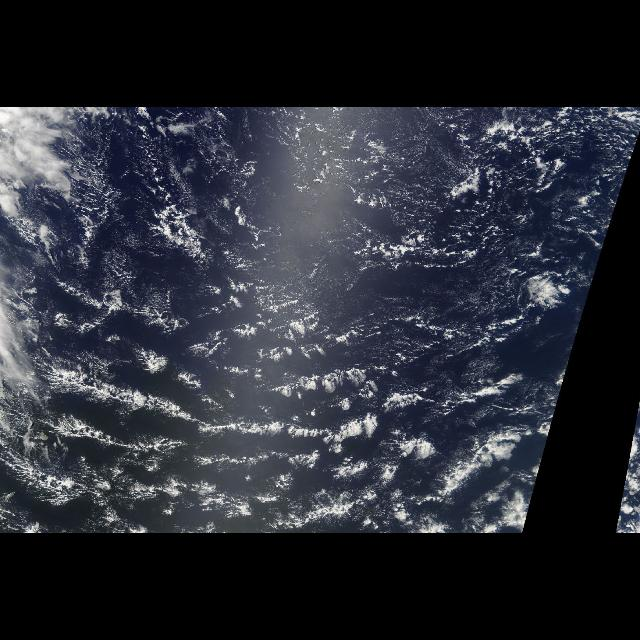Fish: (12, 242, 456, 526)
Gravel: (354, 120, 634, 414)
Sugar: (316, 108, 462, 244)
